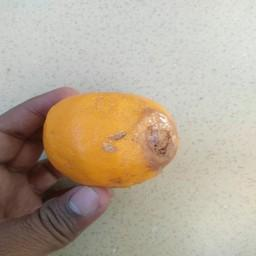Bad_orange: (44, 92, 176, 190)
